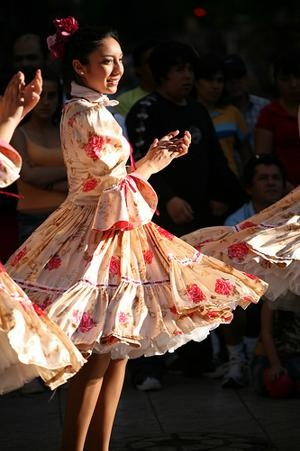person without safety: (49, 12, 189, 450)
